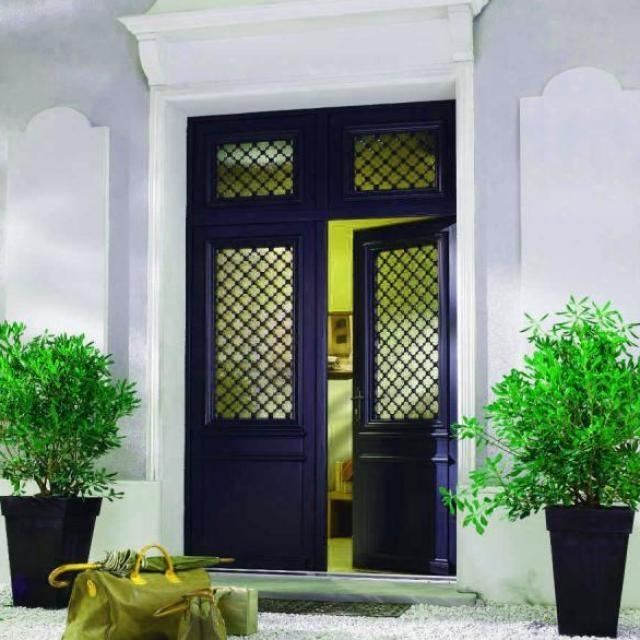door: (350, 217, 456, 575)
